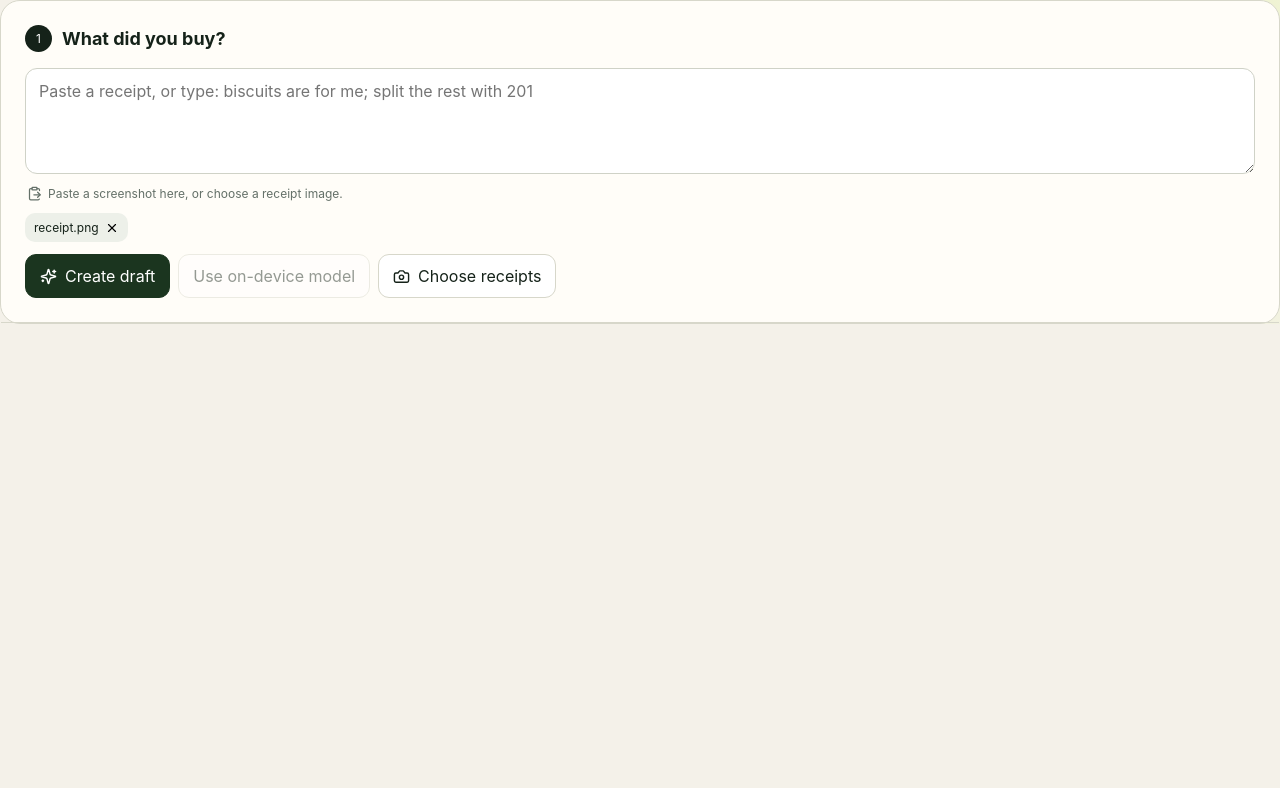
Test: ExpenseEntry receipt input › recalculates every allocation when a receipt item is marked Only me
Click the button "Create draft" at (98, 276), box [25, 254, 170, 298]
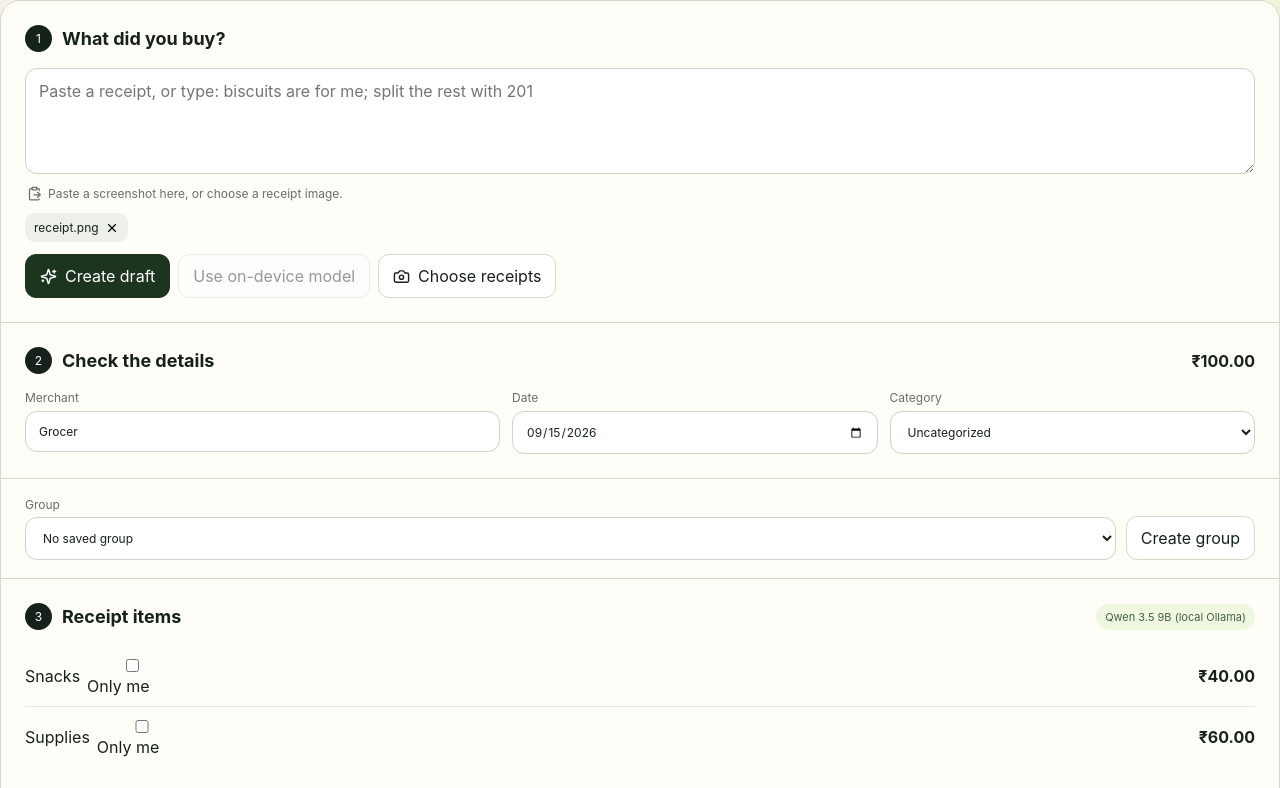
Click the checkbox named "Only me for Snacks" at (132, 666), box [91, 659, 174, 672]
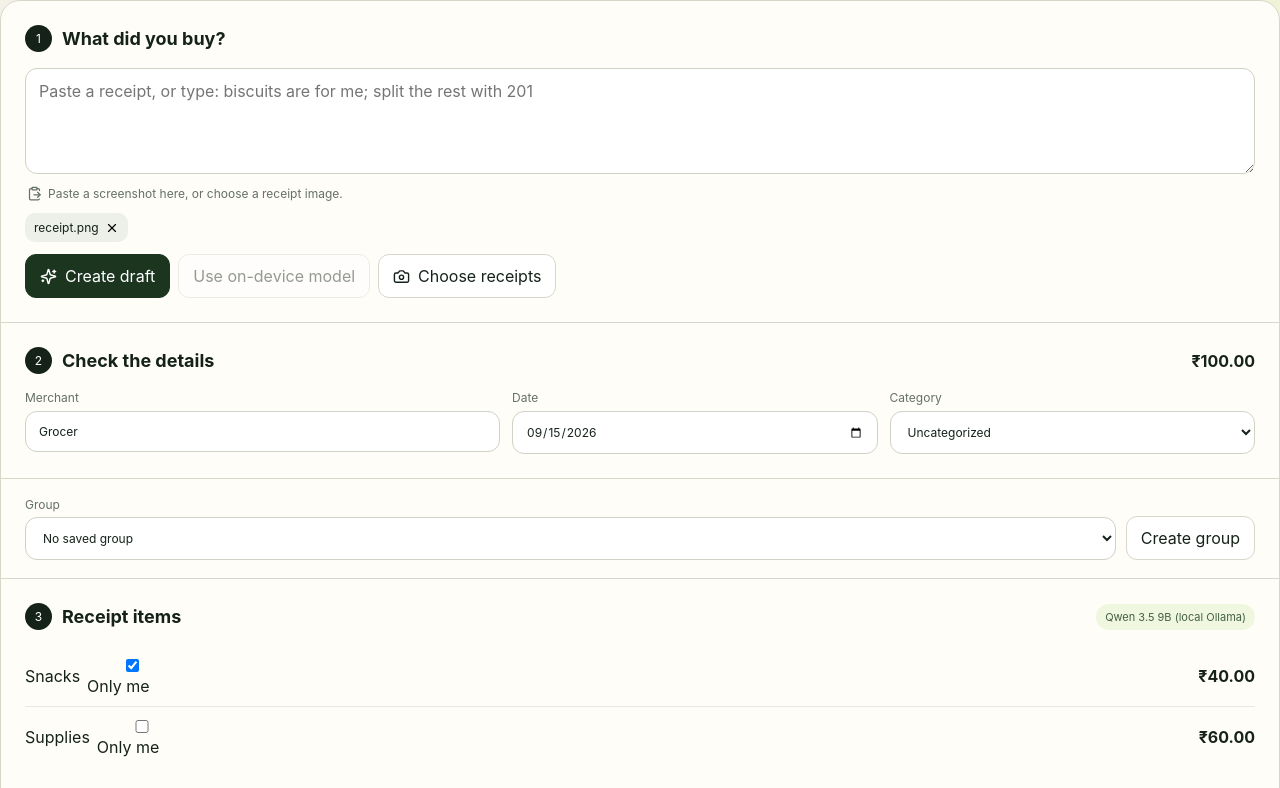
Click the checkbox named "Only me for Snacks" at (132, 666), box [91, 659, 174, 672]
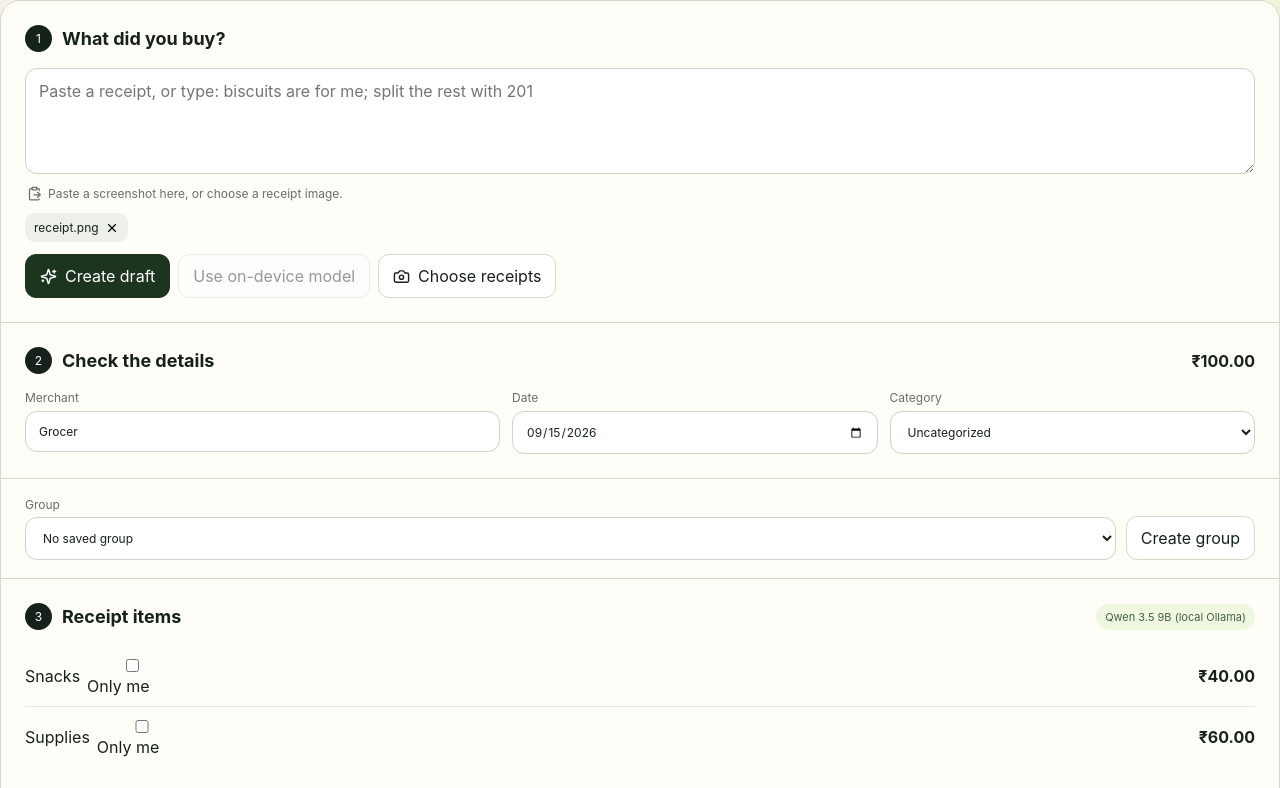
Click the checkbox named "Only me for Snacks" at (132, 666), box [91, 659, 174, 672]
(page scrolled)
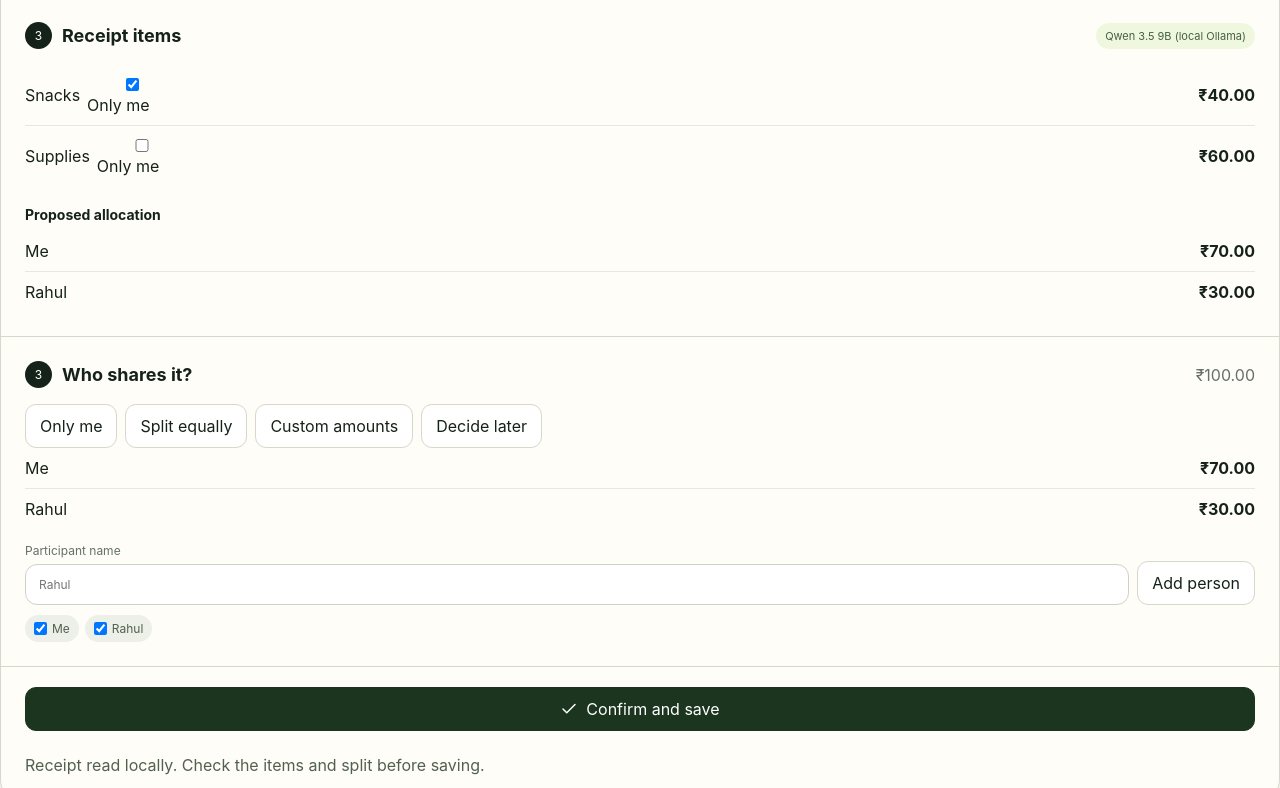
Click the button "Confirm and save" at (640, 709), box [25, 687, 1255, 731]
(page scrolled)
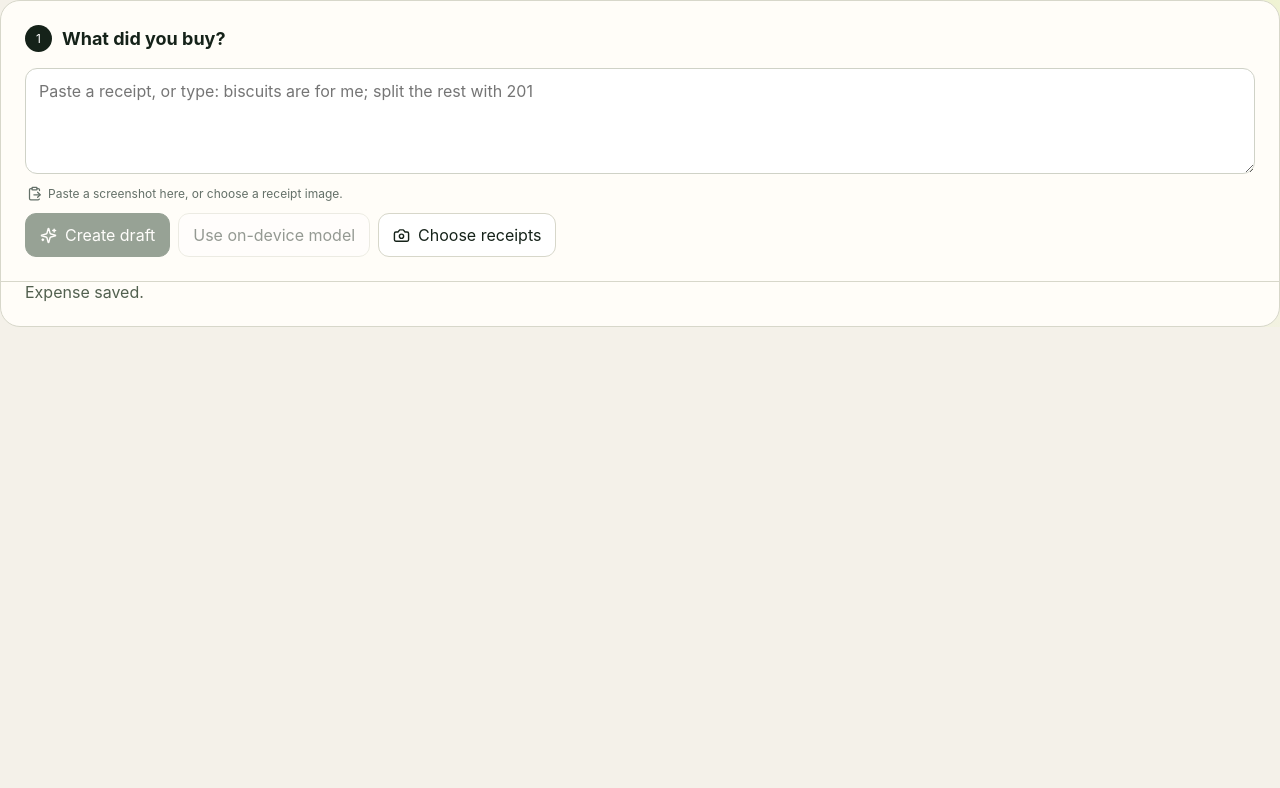
Expected: the text "Expense saved." is shown, [25, 282, 144, 302]
